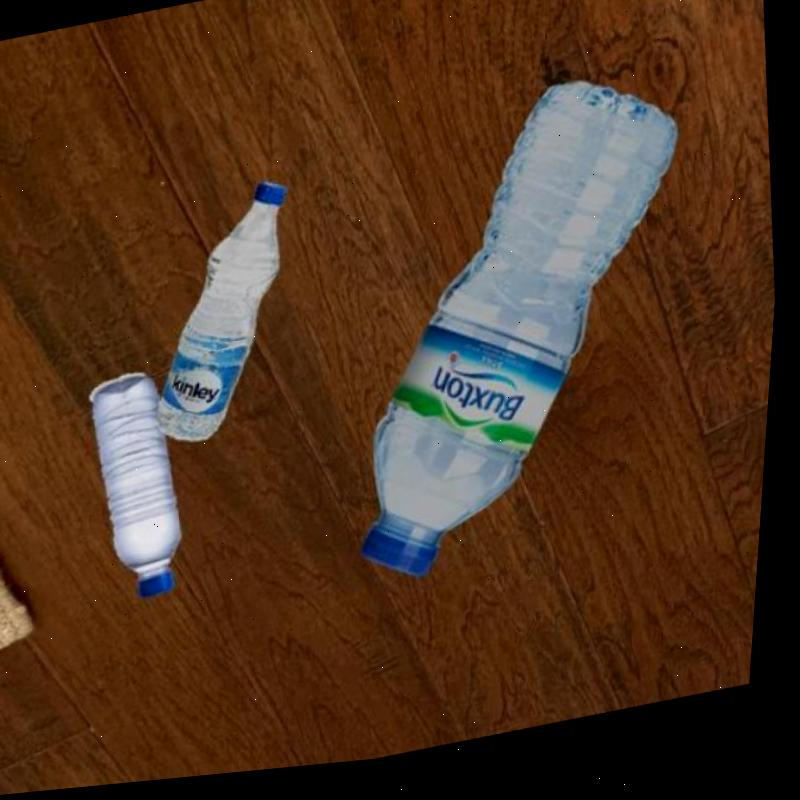botella: (318, 63, 727, 600), (134, 181, 311, 454), (74, 365, 204, 612)
